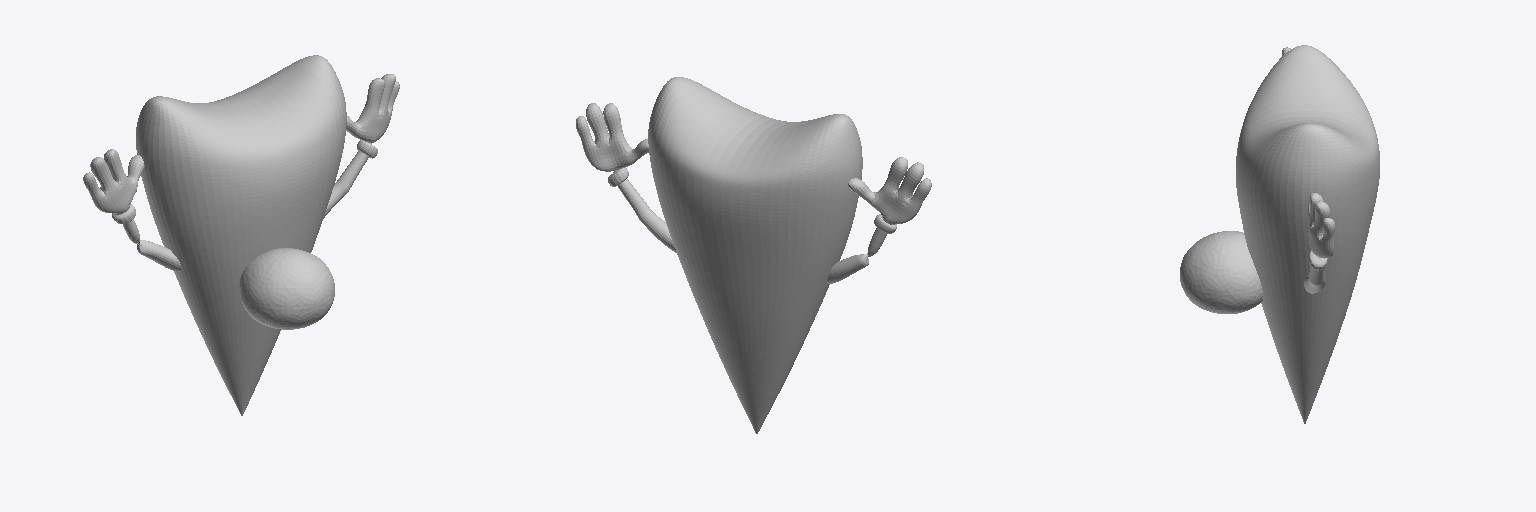
File: java-duke14.obj
The picture shows the model from 3 angles: view 1: azimuth 30°, elevation 25°; view 2: azimuth 150°, elevation 25°; view 3: azimuth 270°, elevation 25°; orthographic projection.
Parts seen in each view (by area): view 1: javadude, javadude_hands, javadude_nase; view 2: javadude, javadude_hands; view 3: javadude, javadude_nase, javadude_hands.
Boxes of the visible parts, <box> form: javadude: <box>136,55,346,415</box>; javadude_hands: <box>83,74,399,271</box>; javadude_nase: <box>239,248,334,329</box>; javadude: <box>648,77,862,433</box>; javadude_hands: <box>576,103,931,283</box>; javadude: <box>1236,45,1379,423</box>; javadude_nase: <box>1180,231,1262,313</box>; javadude_hands: <box>1282,47,1334,293</box>.
Bounding box in the file's own units: 4.09 × 3.95 × 2.12.